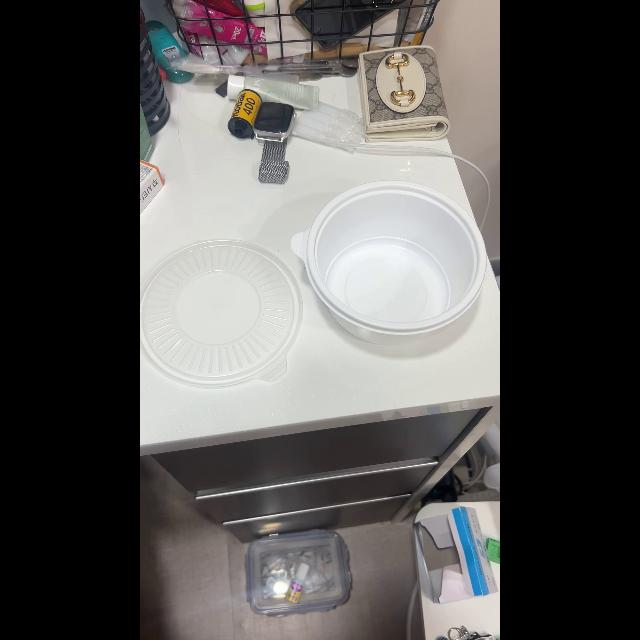clean: (289, 182, 486, 340), (140, 240, 300, 384)
